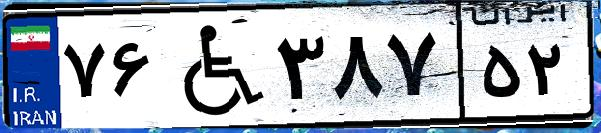2: (525, 38, 570, 115)
3: (270, 28, 330, 110)
5: (475, 38, 525, 113)
6: (110, 28, 158, 98)
7: (385, 28, 445, 110), (57, 26, 110, 100)
8: (330, 28, 385, 110)
ژ (معلولین و جانبازان): (158, 12, 270, 120)
